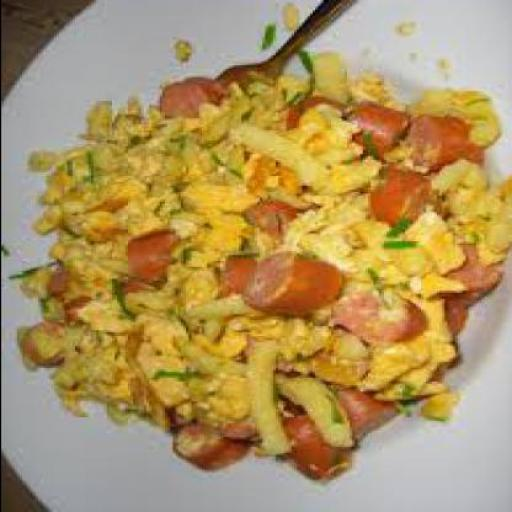biodegradable: (144, 81, 320, 470), (269, 50, 430, 445), (13, 103, 151, 415), (404, 97, 510, 377), (301, 289, 414, 344), (242, 259, 330, 316), (396, 117, 483, 173), (274, 417, 346, 484), (435, 243, 502, 308), (343, 100, 407, 164), (324, 389, 396, 443), (361, 168, 423, 227), (166, 429, 238, 471), (152, 80, 216, 122), (116, 232, 170, 280), (13, 320, 66, 368), (37, 273, 95, 310), (285, 98, 343, 130), (240, 201, 290, 236), (216, 257, 246, 297), (116, 281, 156, 300), (438, 299, 457, 336), (254, 26, 274, 53), (169, 41, 187, 66), (274, 8, 290, 30), (396, 24, 409, 34)
metal: (210, 2, 346, 88)
